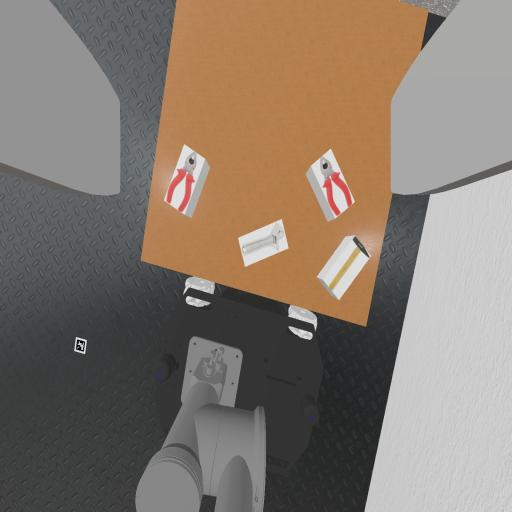hammer: (329, 237, 369, 290)
pliers: (166, 152, 196, 212), (320, 157, 351, 215)
wrench: (243, 223, 284, 254)
